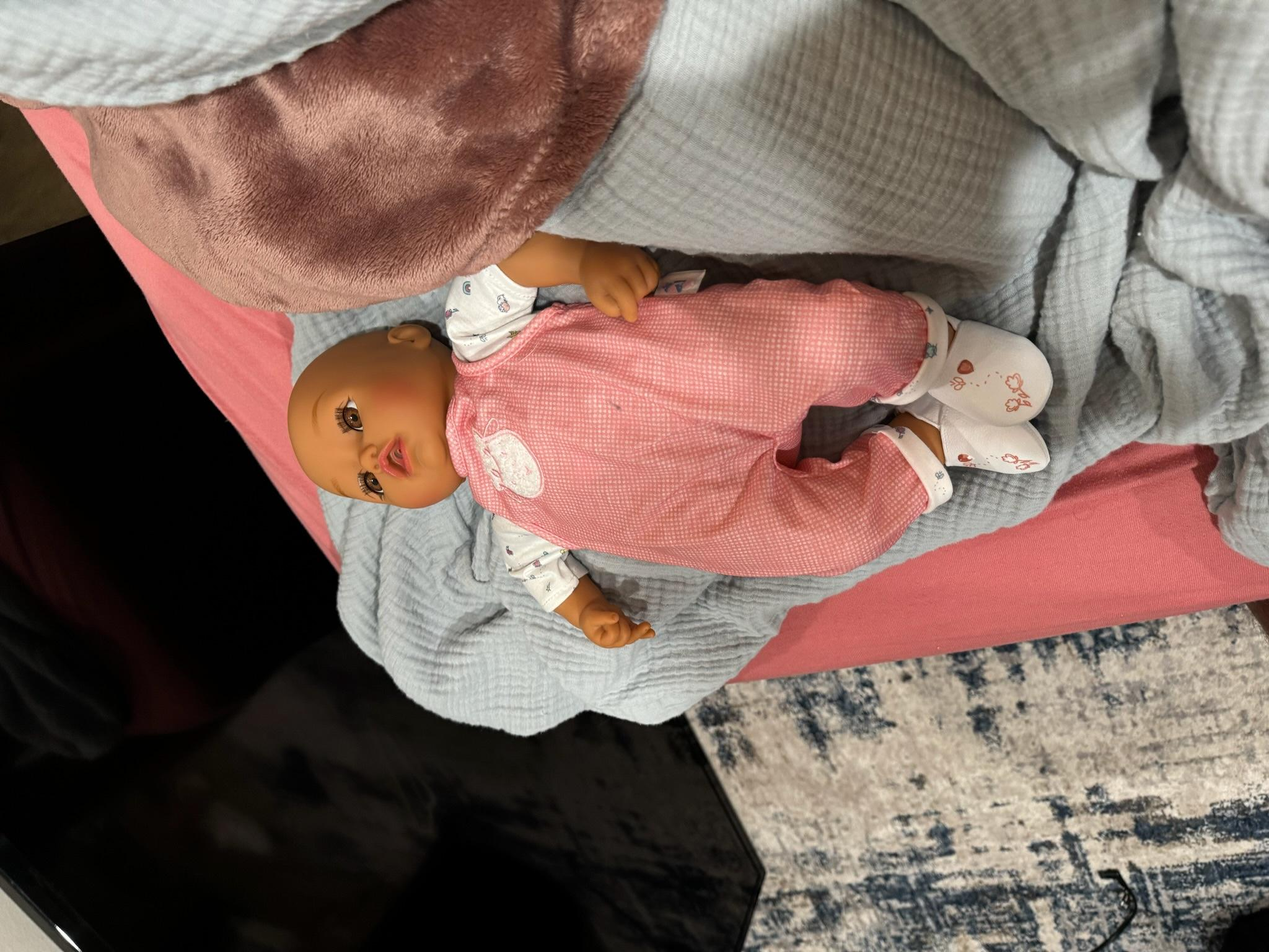baby: (240, 228, 1060, 646)
